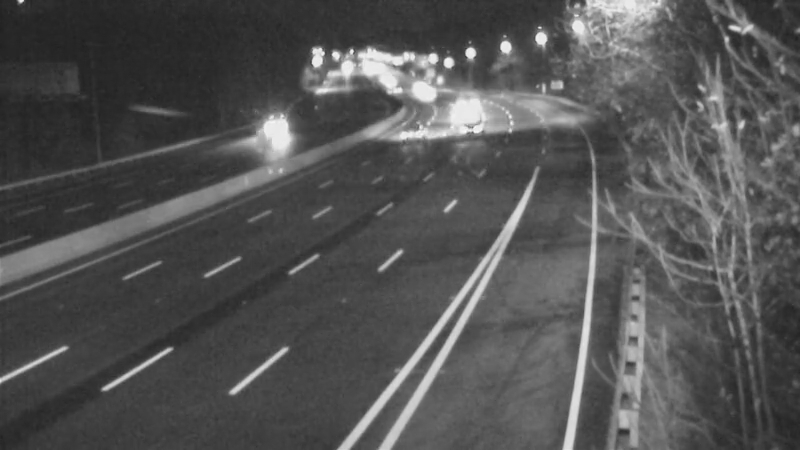vehicle: (393, 61, 443, 111), (376, 71, 426, 121), (402, 70, 452, 120), (444, 80, 494, 130), (434, 92, 484, 142), (437, 104, 487, 154), (382, 109, 432, 159), (255, 104, 305, 154)
